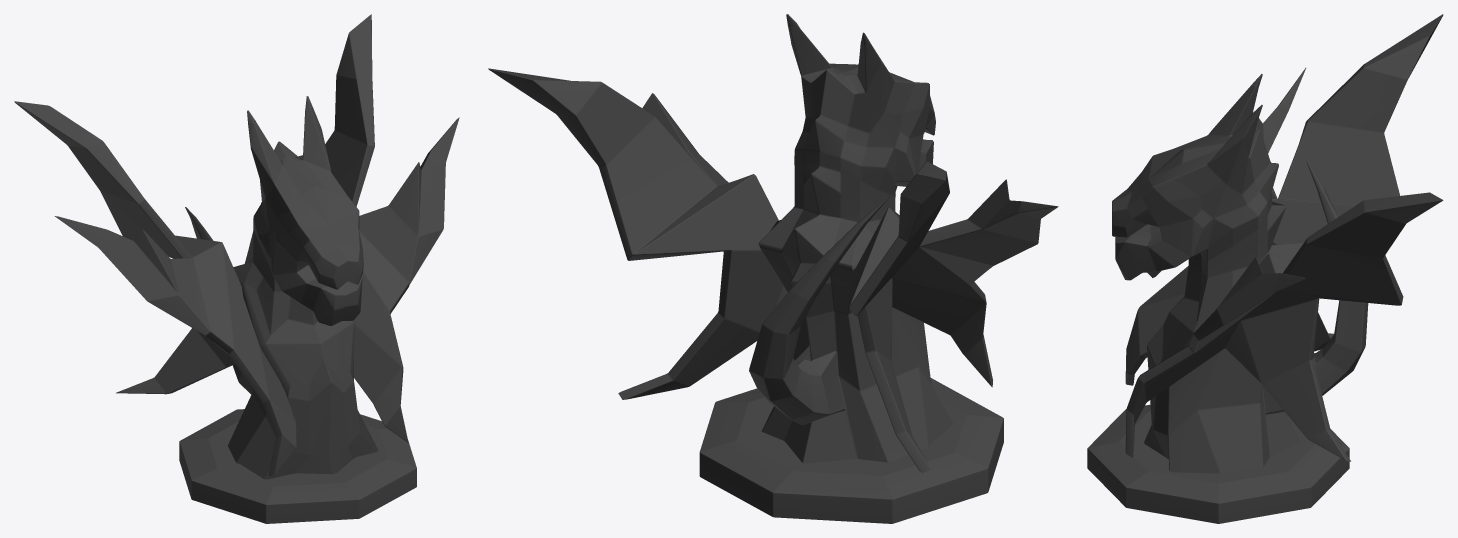
File: samuray_n_b.glb
The picture shows the model from 3 angles, left to right: view 1: azimuth 30°, elevation 25°; view 2: azimuth 150°, elevation 25°; view 3: azimuth 270°, elevation 25°; orthographic projection. The views are drawn at different scales.
Visible parts, largest first — view 1: b_D2; view 2: b_D2; view 3: b_D2.
Boxes of the visible parts, <box> form: b_D2: <box>14,14,459,523</box>; b_D2: <box>488,14,1058,523</box>; b_D2: <box>1087,14,1443,523</box>.
Size of the model in its own units: 3.13 by 2.67 by 2.24.
1 material, 1 textured.
